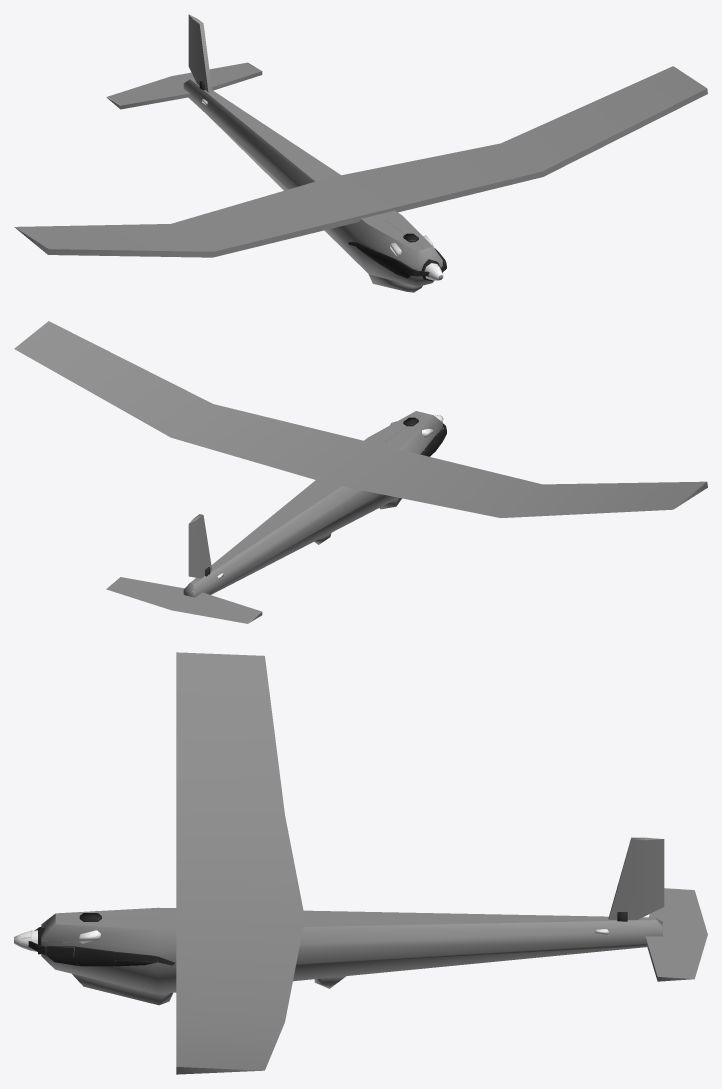
Rendered from D-Eyes02.fbx.
3 views of the same model, one above another, from view 1: azimuth 30°, elevation 25°; view 2: azimuth 150°, elevation 25°; view 3: azimuth 270°, elevation 25° (orthographic). The views are drawn at different scales.
Parts seen in each view (by area): view 1: D-Eyre02; view 2: D-Eyre02; view 3: D-Eyre02.
Part boxes in pixels (x1,y1,x2,y2): D-Eyre02: (14,14,707,292); D-Eyre02: (14,321,707,623); D-Eyre02: (14,652,707,1074).
Bounding box in the file's own units: 2217 × 405 × 1566.
